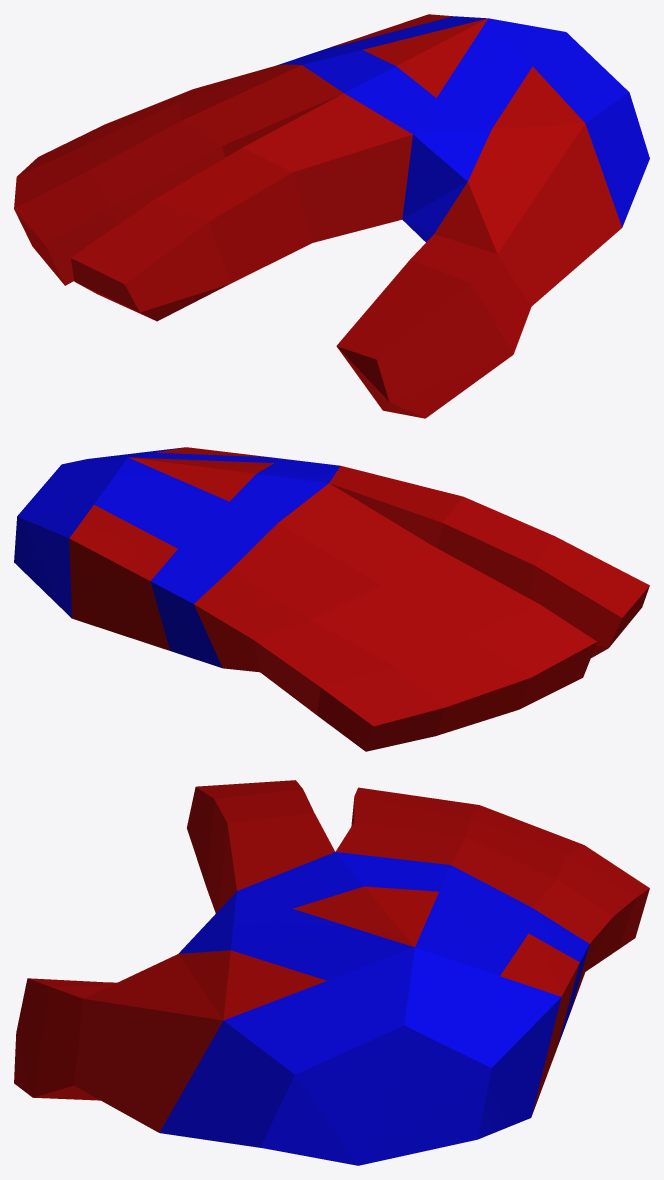
File: Chr_HandRight_Male_Static_10.fbx
The picture shows the model from 3 angles, top to bottom: view 1: azimuth 30°, elevation 25°; view 2: azimuth 150°, elevation 25°; view 3: azimuth 270°, elevation 25°; orthographic projection. The views are drawn at different scales.
Parts seen in each view (by area): view 1: Chr_HandRight_Male_10; view 2: Chr_HandRight_Male_10; view 3: Chr_HandRight_Male_10.
Part boxes in pixels (bbox=[...]): Chr_HandRight_Male_10: bbox=[14, 14, 649, 418]; Chr_HandRight_Male_10: bbox=[14, 447, 649, 751]; Chr_HandRight_Male_10: bbox=[14, 780, 649, 1165].
Size of the model in its own units: 23.35 by 9.52 by 18.8.
